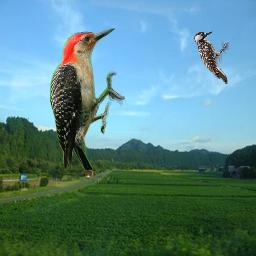Woodpecker: (50, 28, 125, 170), (194, 31, 229, 84)
